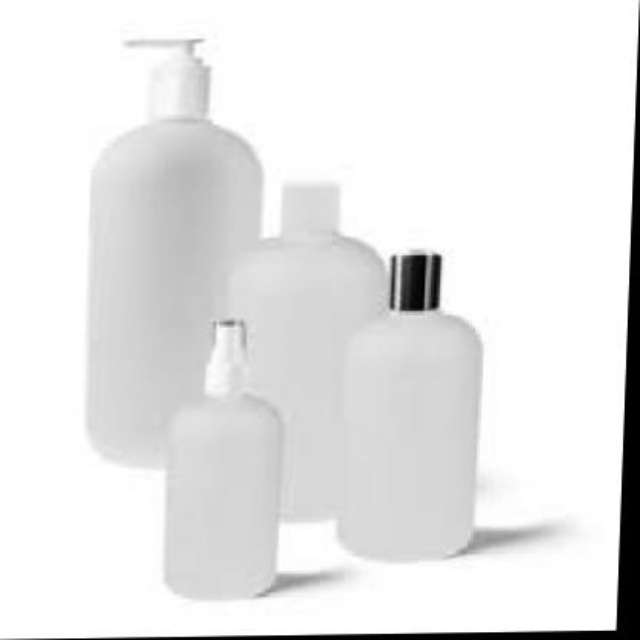trash: (86, 40, 262, 465), (231, 183, 386, 515), (342, 255, 480, 557), (165, 320, 280, 597)
